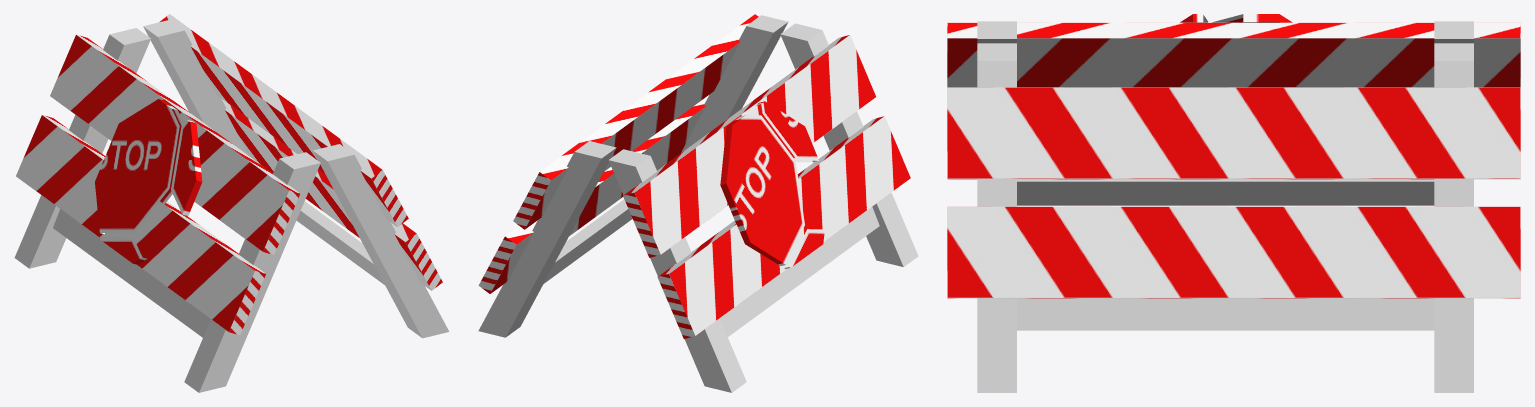
Rendered from Stop.FBX.
3 views of the same model, side by side, from view 1: azimuth 30°, elevation 25°; view 2: azimuth 150°, elevation 25°; view 3: azimuth 270°, elevation 25° (orthographic). The views are drawn at different scales.
Parts seen in each view (by area): view 1: Box004, Box005, NGon001, Box009, Box006, Box002, Box008, Box010, Box001, Box003, Box007; view 2: Box004, Box005, NGon001, Box009, Box010, Box008, Box001, Box006, Box002, Box003, Box007; view 3: Box008, Box009, Box005, Box007, Box003, Box006, Box010, Box002, Box001, NGon001.
Part boxes in pixels (x1,y1,x2,y2): Box004: (16,115,265,335); Box005: (50,34,300,254); NGon001: (95,99,202,264); Box009: (159,14,408,226); Box006: (313,144,449,338); Box002: (184,152,320,392); Box008: (221,98,442,290); Box010: (143,19,248,155); Box001: (14,28,150,268); Box003: (53,209,210,337); Box007: (296,201,384,284); Box004: (657,116,910,338); Box005: (623,35,876,257); NGon001: (720,101,824,268); Box009: (513,14,758,229); Box010: (478,141,616,337); Box008: (478,95,708,293); Box001: (608,149,746,392); Box006: (681,15,788,152); Box002: (780,23,918,266); Box003: (720,207,879,336); Box007: (543,199,632,283); Box008: (947,206,1520,298); Box009: (947,87,1520,179); Box005: (947,22,1520,87); Box007: (1017,298,1434,330); Box003: (1017,179,1434,205); Box006: (977,43,1016,392); Box010: (1434,43,1473,392); Box002: (977,21,1016,43); Box001: (1434,21,1473,43); NGon001: (1180,14,1292,22).
Bounding box in the file's own units: 79.1 × 60.44 × 117.
Materials: 2 (2 with a texture image).
